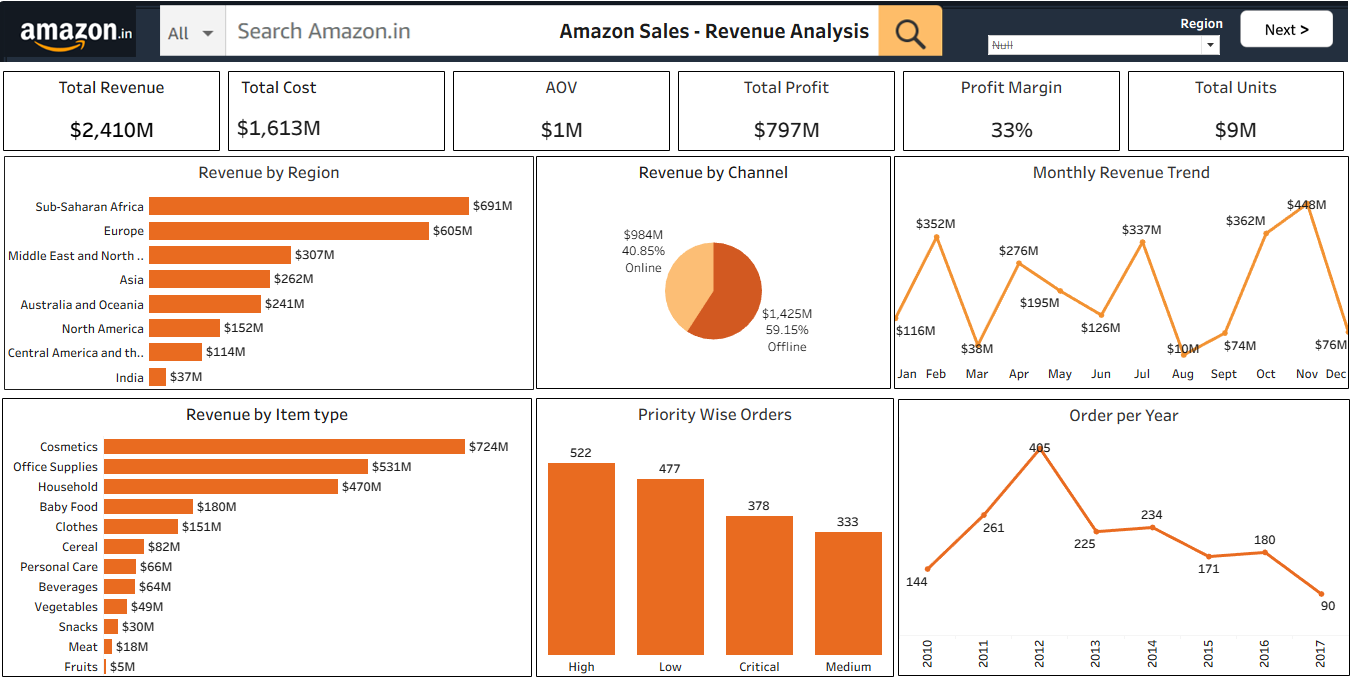

Layout of this report page (visuals, bound fields, positions):
{"tool":"tableau","page":{"name":"Revenue Analysis Dashboard","canvas":[1000,1000],"units":"permille","ordinal":1},"visuals":[{"type":"image","param":"Image/Picture1.png","box":[6.5,1.8,988,87.5]},{"type":"image","param":"Image/Picture5.png","box":[124.5,5.4,649.1,75]},{"type":"image","param":"Image/Picture3.png","box":[9.2,7.1,114.7,75]},{"type":"dashboard-object","box":[913.6,14.3,71.8,58.9]},{"type":"text","box":[295,16.1,318.7,53.6]},{"type":"filter","title":"Revenue by Region","param":"[federated.0ruocg91nmx95e15qtd3w1a694xo].[none:Region:nk]","box":[728.2,19.6,174.6,62.5]},{"type":"worksheet","title":"total revenue","mark":"Automatic","box":[6.2,96.4,165.1,125]},{"type":"worksheet","title":"total cost","mark":"Automatic","box":[171.2,96.4,165.1,125]},{"type":"worksheet","title":"average order value","mark":"Automatic","box":[336.3,96.4,165.1,125]},{"type":"worksheet","title":"total profit","mark":"Automatic","box":[501.3,96.4,165.1,125]},{"type":"worksheet","title":"profit margin","mark":"Automatic","box":[666.4,96.4,164.2,125]},{"type":"worksheet","title":"total units","mark":"Automatic","box":[830.6,96.4,164.2,125]},{"type":"worksheet","title":"Revenue by Region","mark":"Automatic","rows":["Region"],"cols":["Total Revenue"],"box":[10,223.2,388.2,335.7]},{"type":"worksheet","title":"revenue from channel","mark":"Pie","box":[400,223.2,260,333.9]},{"type":"worksheet","title":"revenue trend","mark":"Line","rows":["Total Revenue"],"cols":["Order Date"],"box":[661.8,223.2,332.7,333.9]},{"type":"worksheet","title":"Revenue by Item type","mark":"Automatic","rows":["Item Type"],"cols":["Total Revenue"],"box":[9.1,569.6,388.2,400]},{"type":"worksheet","title":"Priority Wise Orders","mark":"Automatic","rows":["Calculation_961799997319929859"],"cols":["Order Priority"],"box":[400,569.6,261.8,400]},{"type":"worksheet","title":"order per year","mark":"Automatic","rows":["Calculation_961799997319929859"],"cols":["Ship Date"],"box":[664.6,571.4,330.9,396.4]}]}

Visuals, with their boxes on the dashboard's canvas, which has no fixed pixel size, in thousandths of its width and height (x1, y1, x2, y2). These are canvas units, not pixel positions in the 1356x678 screenshot, which may show the page scaled, cropped or inside an application window:
image: {"left": 6, "top": 2, "right": 994, "bottom": 89}
image: {"left": 124, "top": 5, "right": 774, "bottom": 80}
image: {"left": 9, "top": 7, "right": 124, "bottom": 82}
dashboard-object: {"left": 914, "top": 14, "right": 985, "bottom": 73}
text: {"left": 295, "top": 16, "right": 614, "bottom": 70}
"Revenue by Region" filter: {"left": 728, "top": 20, "right": 903, "bottom": 82}
"total revenue" worksheet: {"left": 6, "top": 96, "right": 171, "bottom": 221}
"total cost" worksheet: {"left": 171, "top": 96, "right": 336, "bottom": 221}
"average order value" worksheet: {"left": 336, "top": 96, "right": 501, "bottom": 221}
"total profit" worksheet: {"left": 501, "top": 96, "right": 666, "bottom": 221}
"profit margin" worksheet: {"left": 666, "top": 96, "right": 831, "bottom": 221}
"total units" worksheet: {"left": 831, "top": 96, "right": 995, "bottom": 221}
"Revenue by Region" worksheet: {"left": 10, "top": 223, "right": 398, "bottom": 559}
"revenue from channel" worksheet (Pie marks): {"left": 400, "top": 223, "right": 660, "bottom": 557}
"revenue trend" worksheet (Line marks): {"left": 662, "top": 223, "right": 994, "bottom": 557}
"Revenue by Item type" worksheet: {"left": 9, "top": 570, "right": 397, "bottom": 970}
"Priority Wise Orders" worksheet: {"left": 400, "top": 570, "right": 662, "bottom": 970}
"order per year" worksheet: {"left": 665, "top": 571, "right": 996, "bottom": 968}
